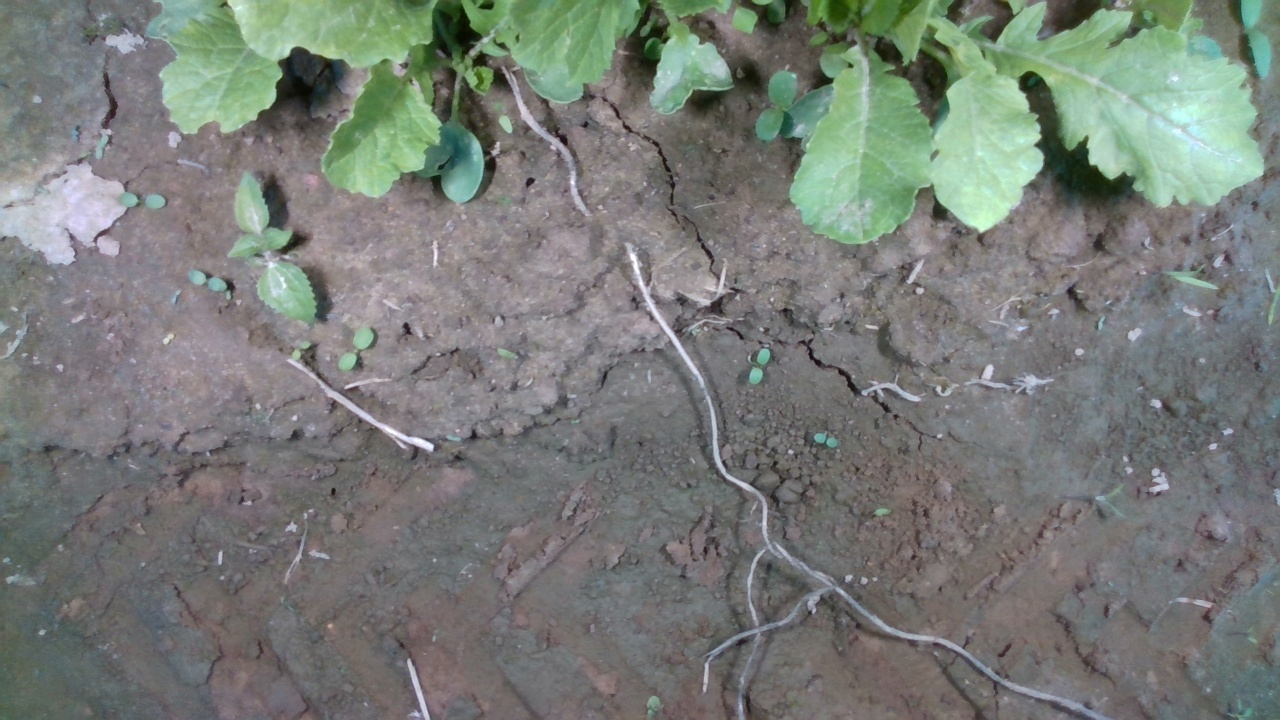weed: (336, 326, 376, 372), (114, 191, 168, 211), (747, 346, 772, 386), (186, 269, 227, 291), (811, 430, 841, 450), (290, 339, 312, 362), (92, 133, 110, 161), (170, 285, 184, 305), (161, 331, 175, 346)
